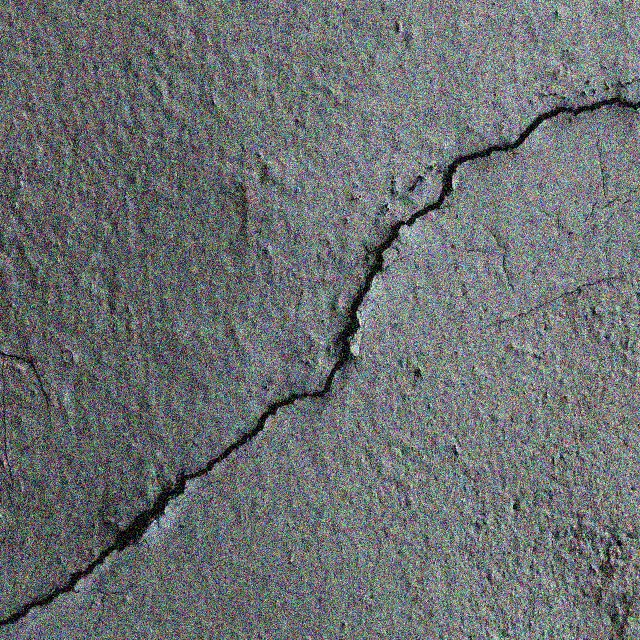SurfaceCrack: (1, 8, 640, 636)
